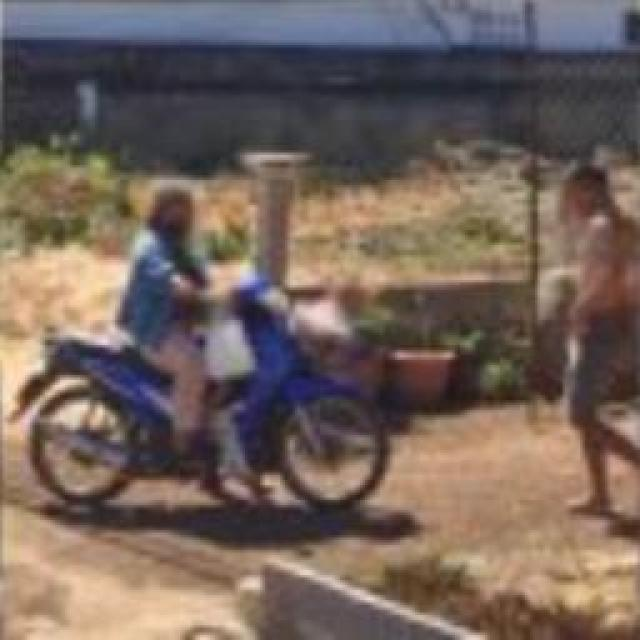motorbike: (5, 275, 403, 517)
